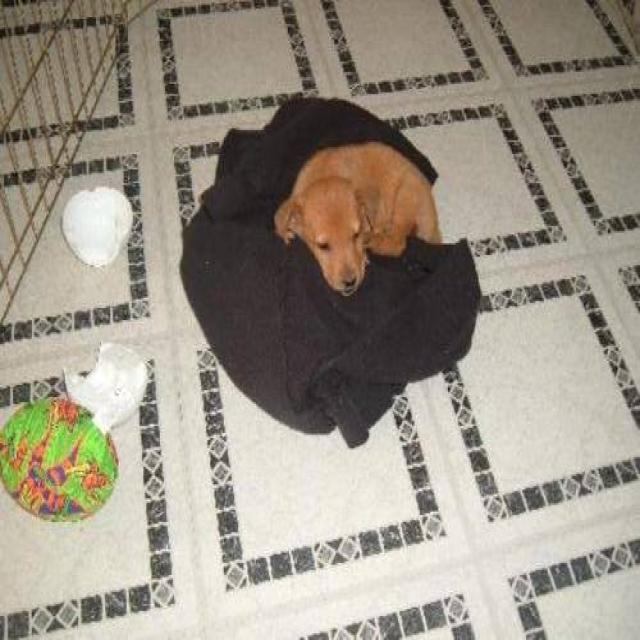dog: (273, 139, 442, 296)
